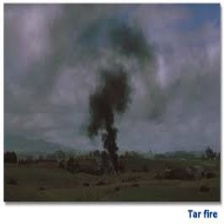smoke: (86, 65, 139, 155)
